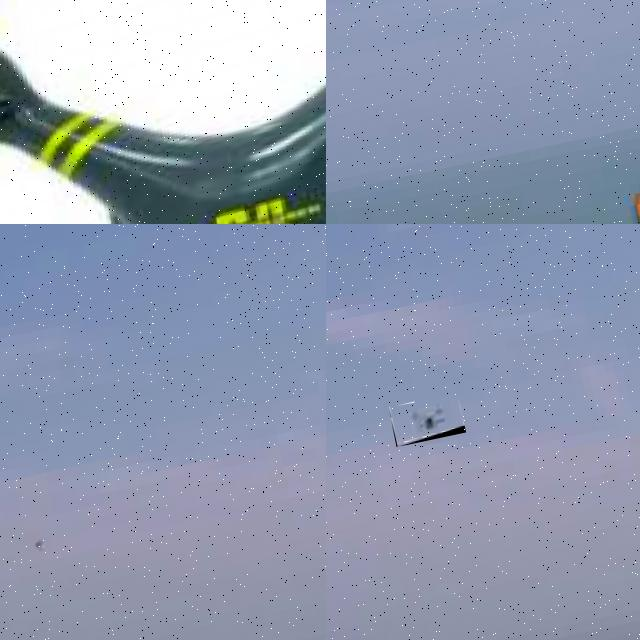0: (388, 392, 466, 447)
drone: (0, 0, 326, 224)
